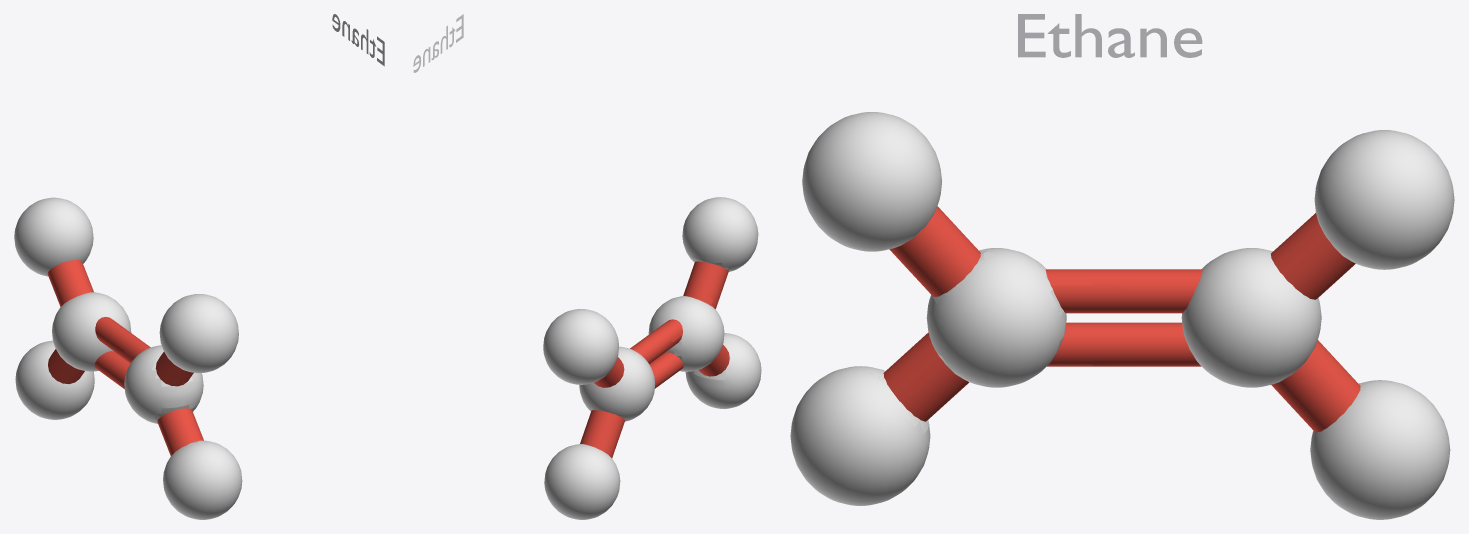
The model's file is ethane.glb.
The picture shows the model from 3 angles, left to right: view 1: azimuth 30°, elevation 25°; view 2: azimuth 150°, elevation 25°; view 3: azimuth 270°, elevation 25°; orthographic projection. The views are drawn at different scales.
Parts seen in each view (by area): view 1: ethene, ethene.001, Text.001; view 2: ethene, ethene.001, Text.001; view 3: ethene, ethene.001, Text.001.
Part boxes in pixels (box(x1,y1,x2,y2)): ethene: box(14, 197, 203, 455); ethene.001: box(124, 294, 242, 519); Text.001: box(332, 14, 384, 66); ethene: box(543, 258, 731, 519); ethene.001: box(648, 197, 761, 408); Text.001: box(413, 14, 463, 72); ethene: box(873, 130, 1454, 519); ethene.001: box(790, 112, 1092, 505); Text.001: box(1018, 14, 1202, 57).
Bounding box in the file's own units: 7.58 × 10.93 × 9.47.
